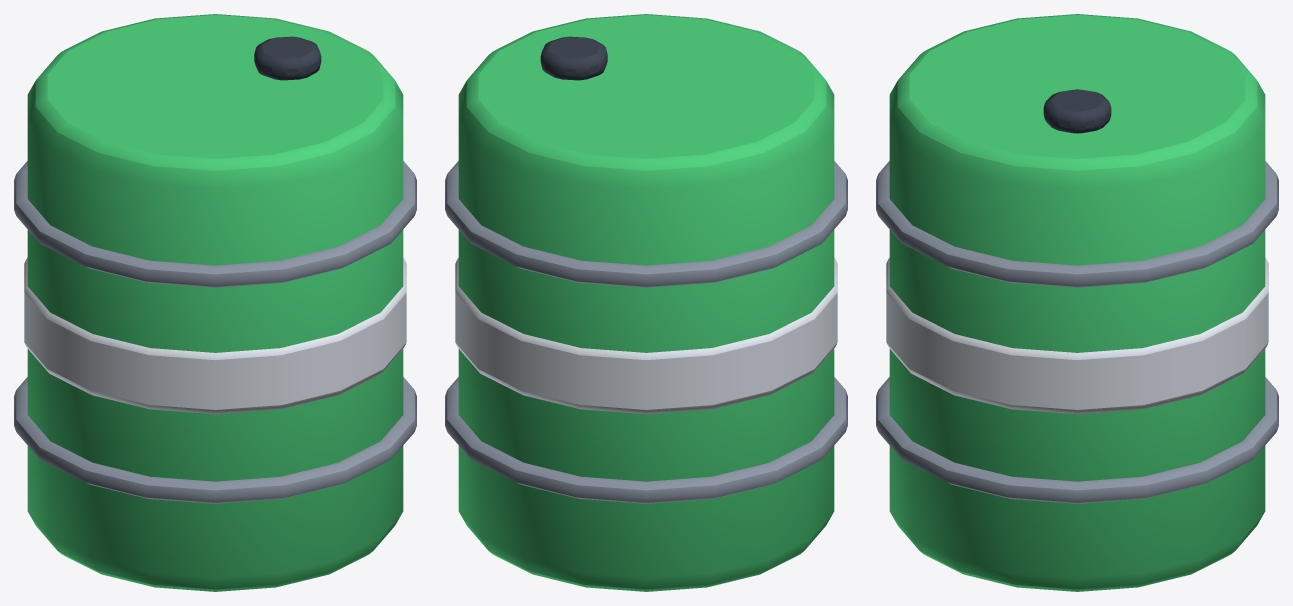
File: ware_algenoel.fbx
3 renders of one model, left to right at view 1: azimuth 30°, elevation 25°; view 2: azimuth 150°, elevation 25°; view 3: azimuth 270°, elevation 25°, orthographic.
Visible parts, largest first — view 1: ware_algenoel_Koerper; view 2: ware_algenoel_Koerper; view 3: ware_algenoel_Koerper.
Boxes of the visible parts, x1=… form: ware_algenoel_Koerper: x1=14, y1=14, x2=416, y2=591; ware_algenoel_Koerper: x1=445, y1=14, x2=847, y2=591; ware_algenoel_Koerper: x1=876, y1=14, x2=1278, y2=591.
Bounding box in the file's own units: 0.3432 × 0.42 × 0.338.
